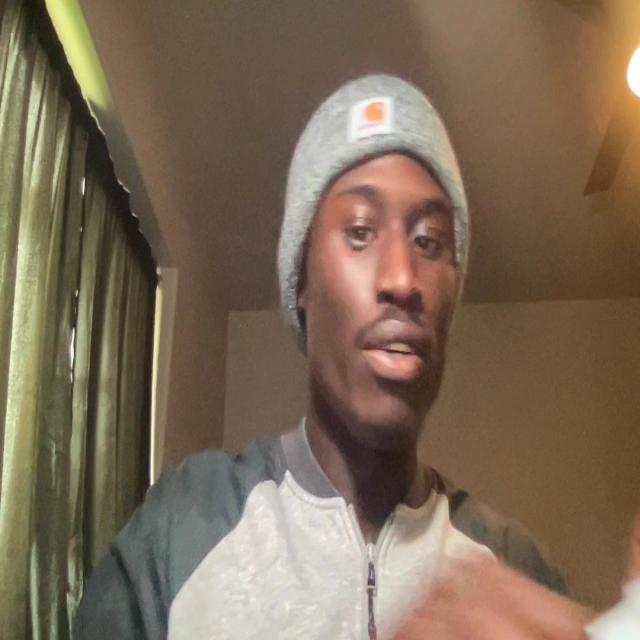face: (296, 145, 465, 460)
